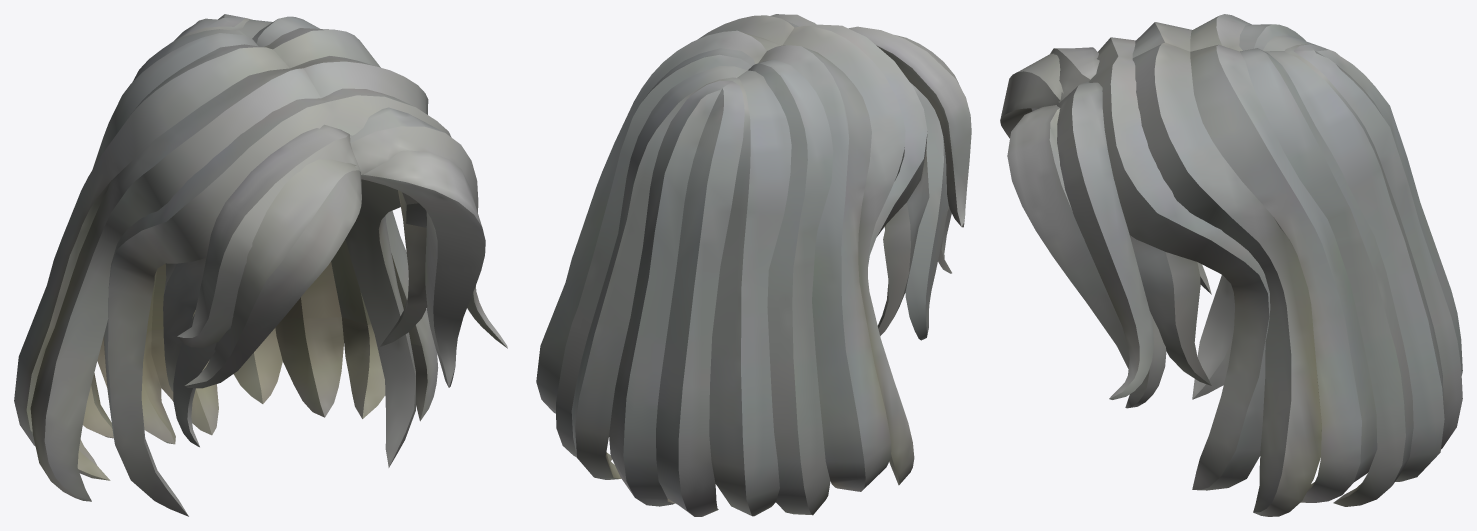
The model's file is Hair_Long.glb.
The picture shows the model from 3 angles, left to right: view 1: azimuth 30°, elevation 25°; view 2: azimuth 150°, elevation 25°; view 3: azimuth 270°, elevation 25°; orthographic projection. The views are drawn at different scales.
Parts seen in each view (by area): view 1: Hair_Long; view 2: Hair_Long; view 3: Hair_Long.
Part boxes in pixels (<box>): Hair_Long: <box>14,14,507,516</box>; Hair_Long: <box>536,14,971,516</box>; Hair_Long: <box>1000,14,1462,516</box>.
Size of the model in its own units: 0.2447 by 0.2764 by 0.2704.
1 material, 1 textured.
